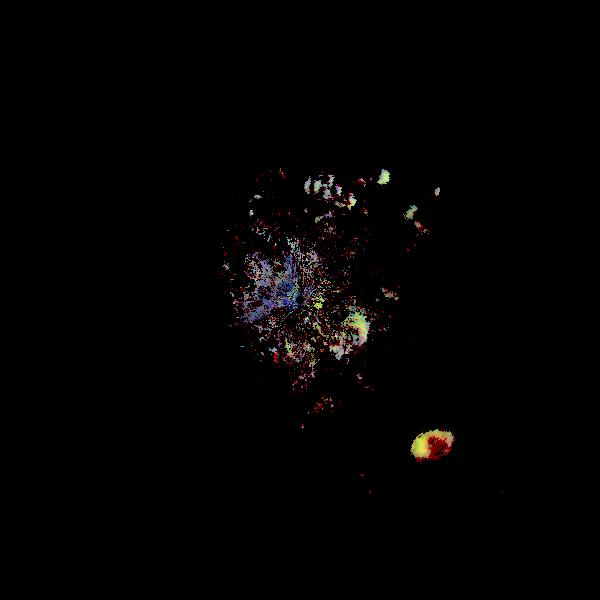roost: (258, 332, 333, 407), (320, 306, 377, 363), (407, 424, 464, 481), (248, 164, 299, 215), (405, 193, 453, 241), (380, 263, 425, 308)
